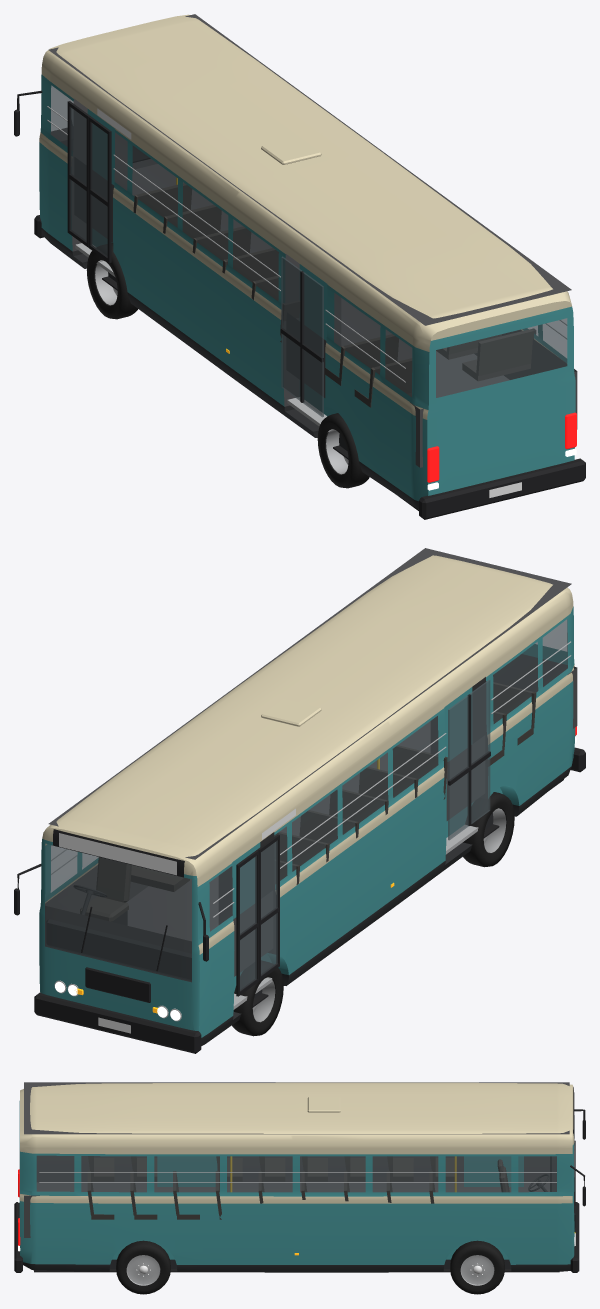
The model's file is bus.glb.
3 views of the same model, one above another, from view 1: azimuth 30°, elevation 25°; view 2: azimuth 150°, elevation 25°; view 3: azimuth 270°, elevation 25° (orthographic). The views are drawn at different scales.
Visible parts, largest first — view 1: bus_body, door_front_b, door_front_a, wheel_rl, wheel_fl; view 2: bus_body, door_front_a, door_front_b, wheel_rl, wheel_fl; view 3: bus_body, wheel_rr, wheel_fr.
Part boxes in pixels (x1,y1,x2,y2): bus_body: [14, 14, 585, 519]; door_front_b: [88, 116, 111, 262]; door_front_a: [67, 101, 90, 247]; wheel_rl: [317, 413, 369, 488]; wheel_fl: [86, 243, 137, 319]; bus_body: [14, 548, 585, 1053]; door_front_a: [236, 850, 258, 996]; door_front_b: [257, 834, 279, 980]; wheel_rl: [463, 792, 514, 867]; wheel_fl: [232, 960, 283, 1036]; bus_body: [14, 1082, 585, 1272]; wheel_rr: [116, 1240, 170, 1294]; wheel_fr: [450, 1240, 504, 1294].
Bounding box in the file's own units: 2.96 × 3.3 × 10.45.
